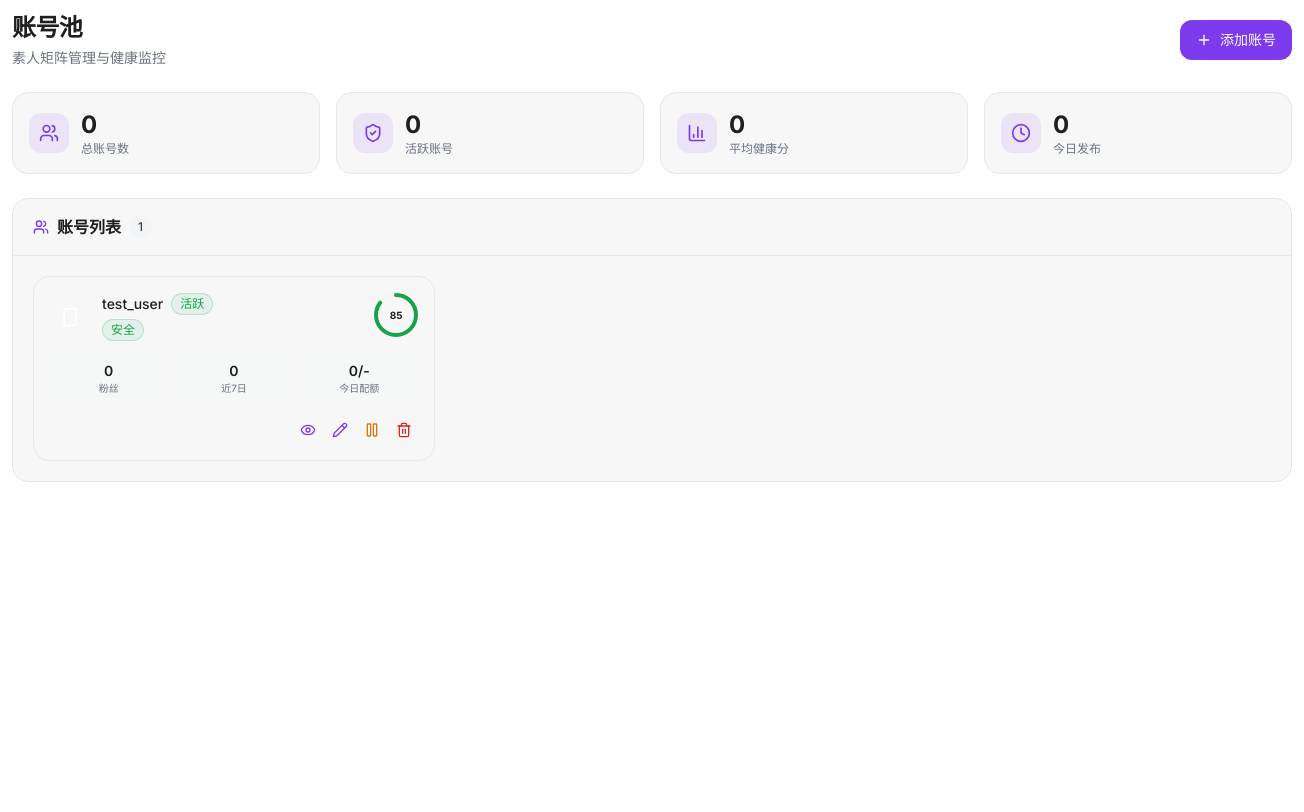
Test: AccountPoolPage › opens detail side panel when clicking account card
Click the text "test_user" at {"x": 133, "y": 304}, box [102,294,163,314]
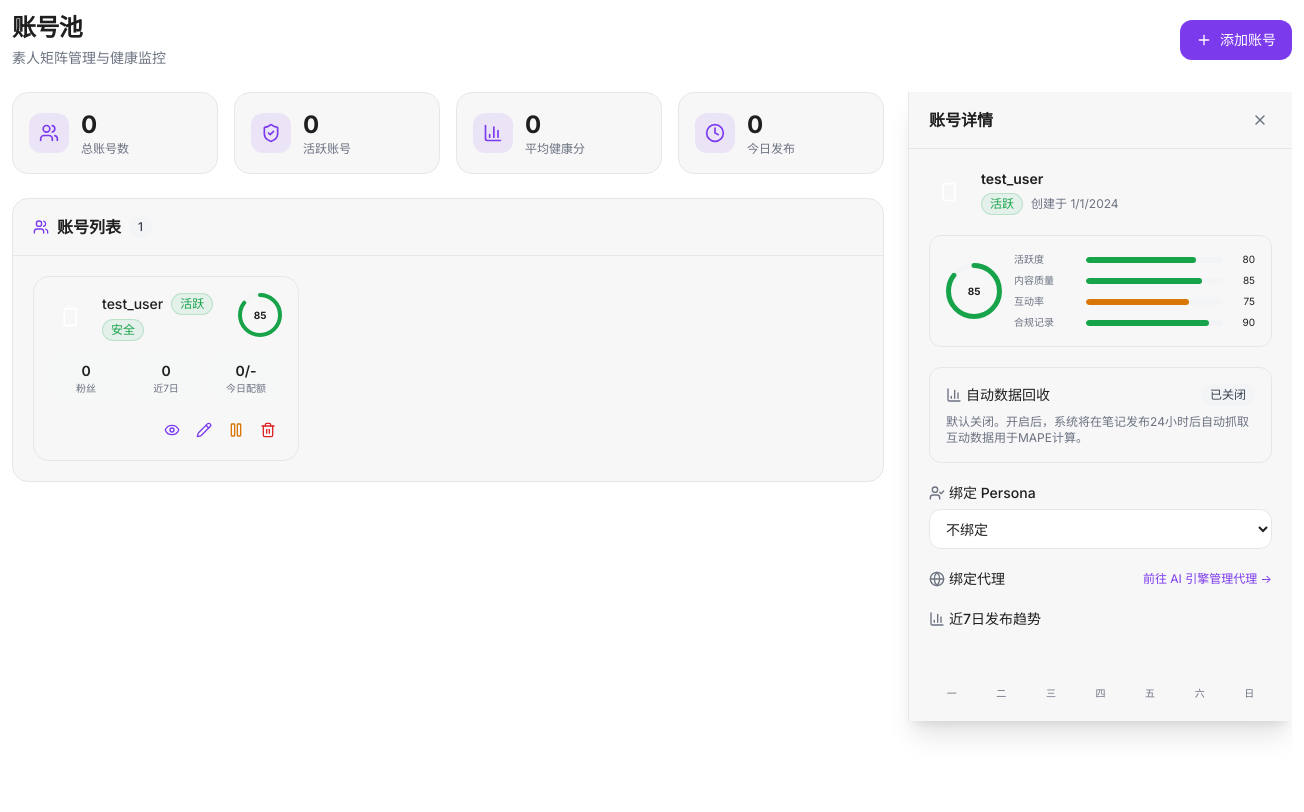
Check: the heading "账号详情" is shown, box [929,108,993,132]
Check: the element that starts with "账号详情" is shown, box [908,92,1292,721]
